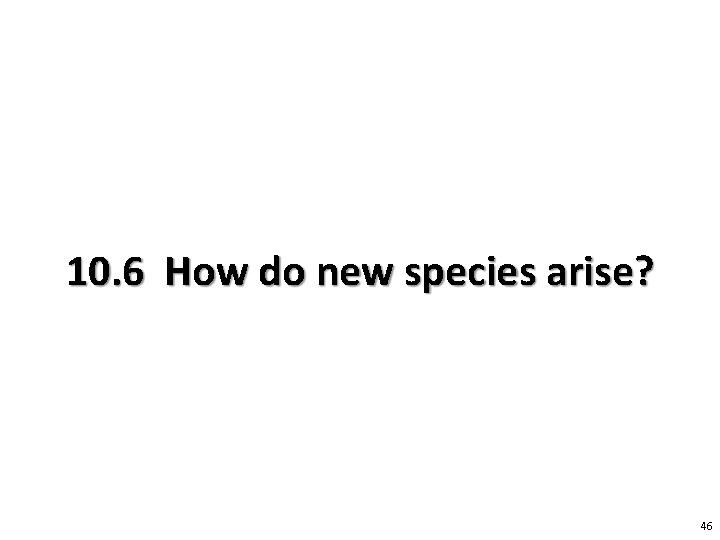title: (65, 230, 667, 312)
